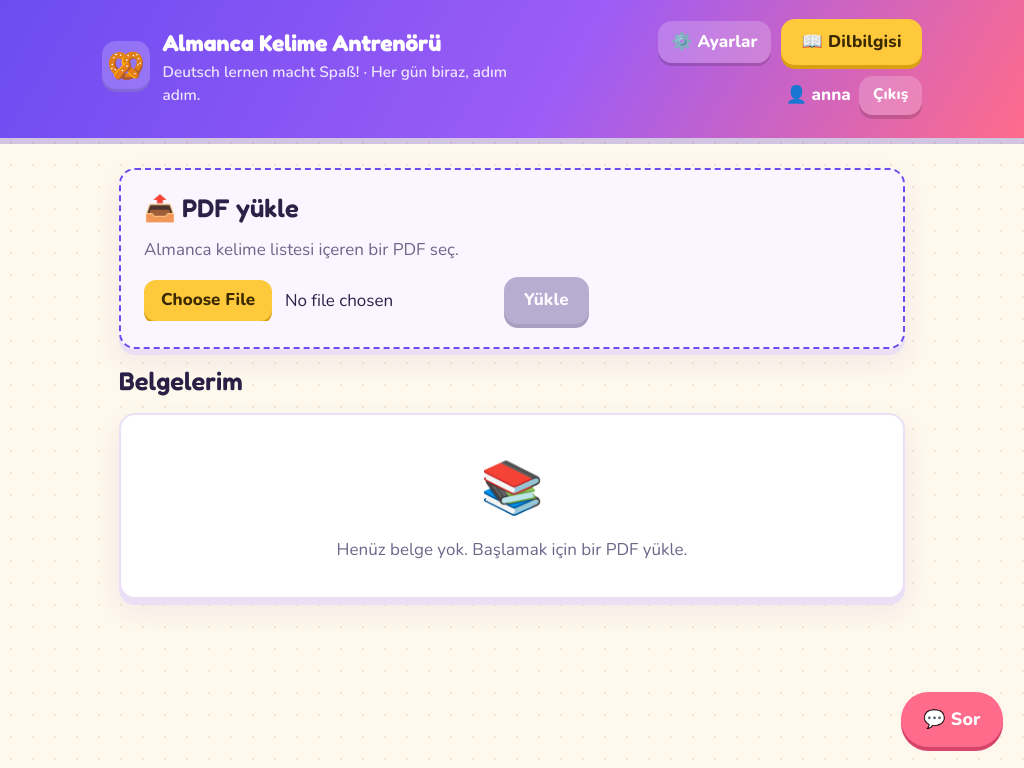
it: GrammarHelp › closes and reopens on the last topic
The image size is (1024, 768).
Click the button "📖 Dilbilgisi": click(852, 42) [781, 19, 922, 65]
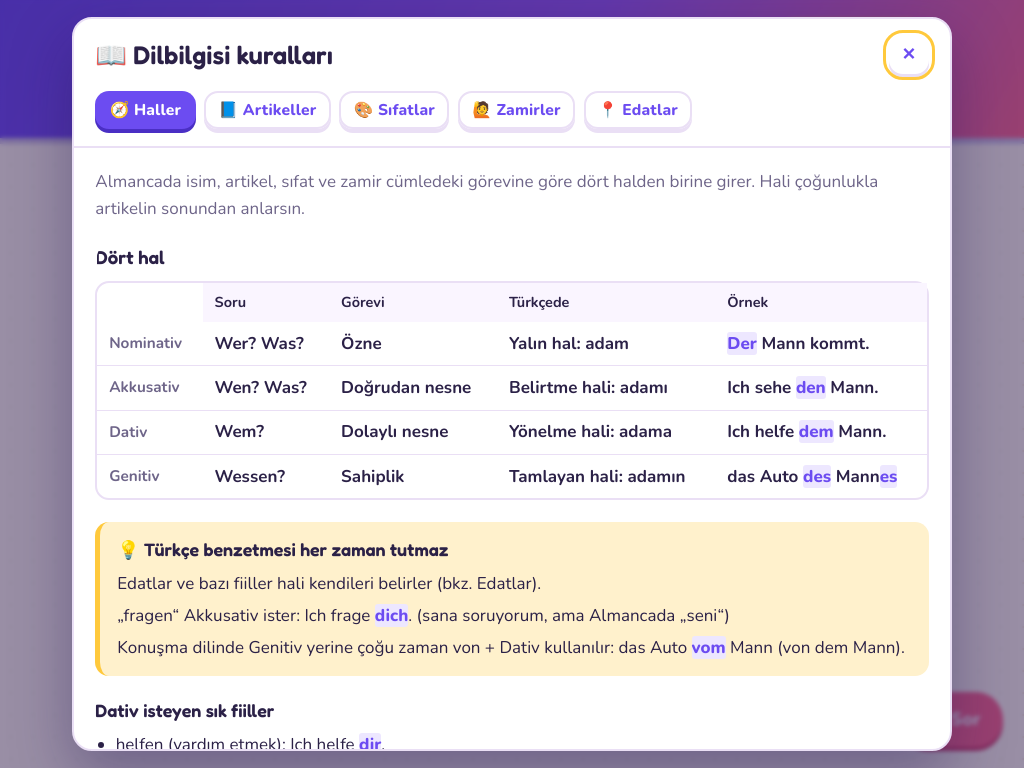
Click the button "📍 Edatlar": click(638, 110) [584, 91, 692, 129]
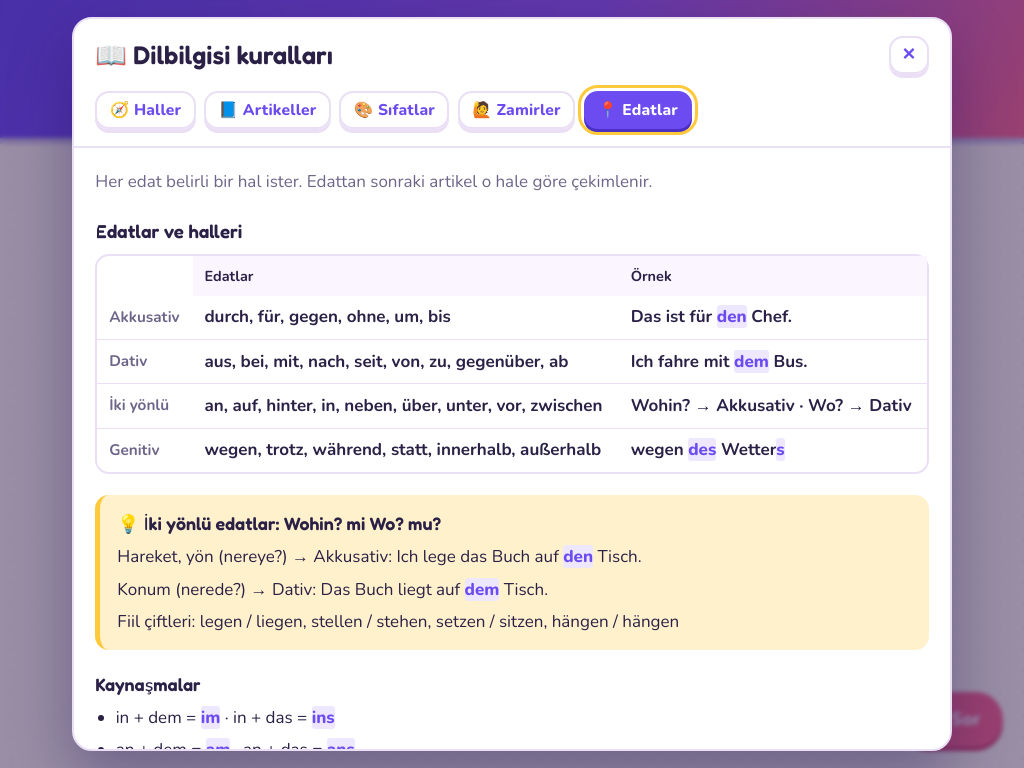
Click the button named "Kapat": click(909, 55) [889, 36, 929, 74]
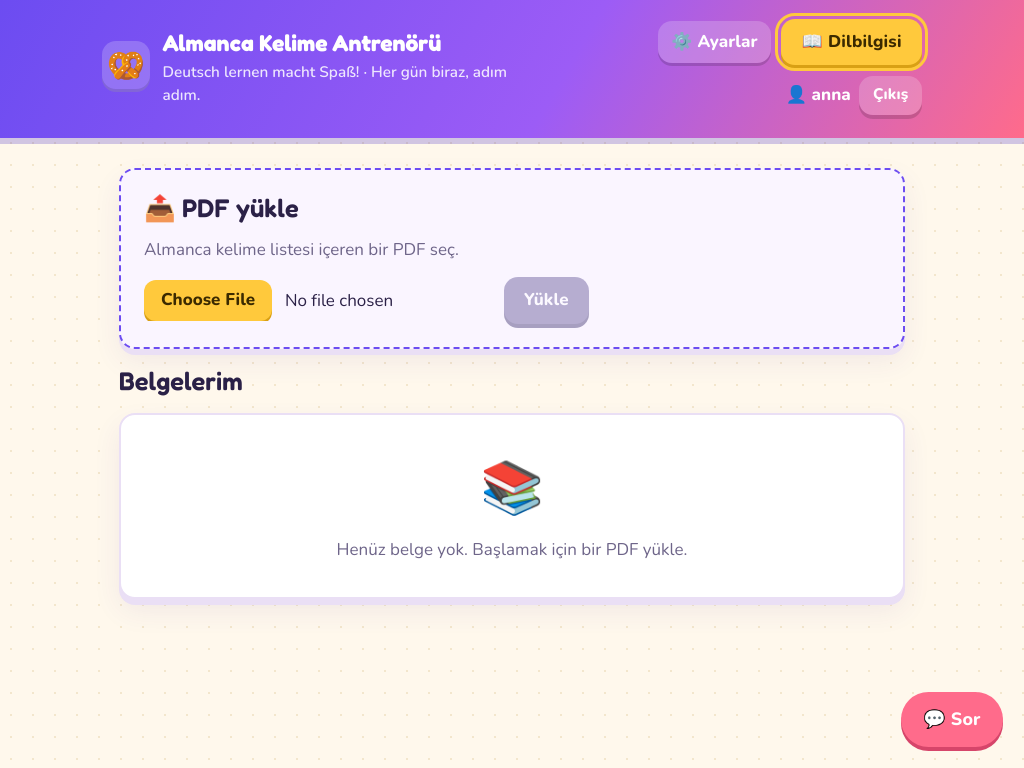
expect the table is gone: met
Click the button "📖 Dilbilgisi": click(852, 42) [781, 19, 922, 65]
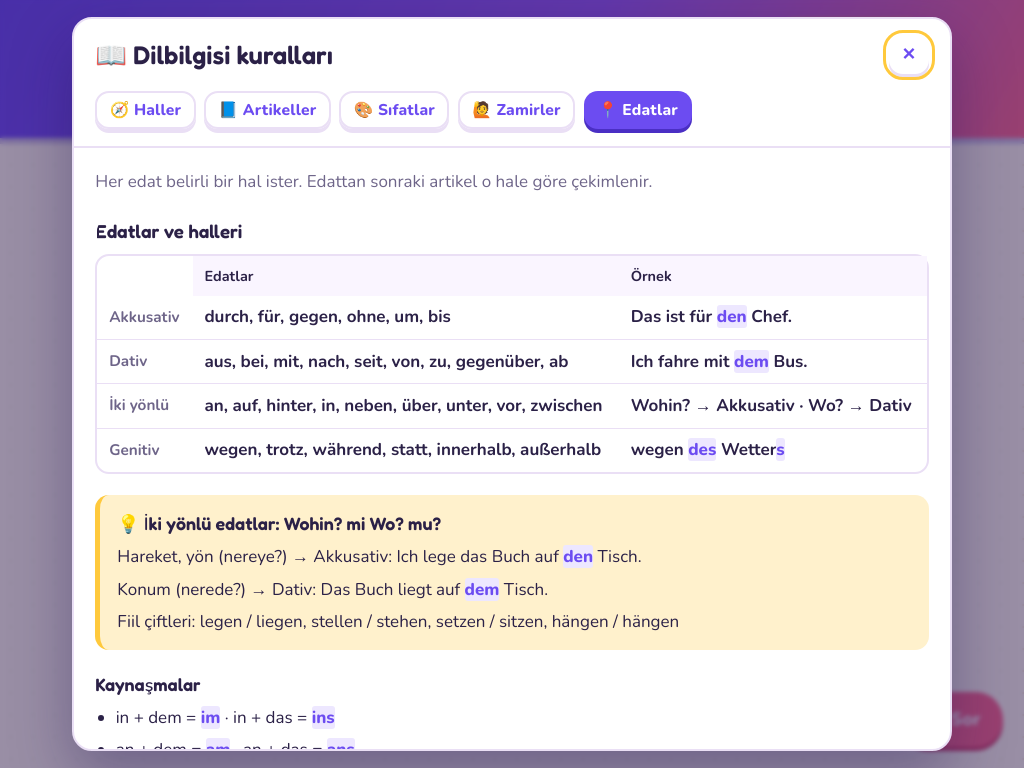
expect the table "Edatlar ve halleri" is shown: met, box [95, 217, 929, 474]
